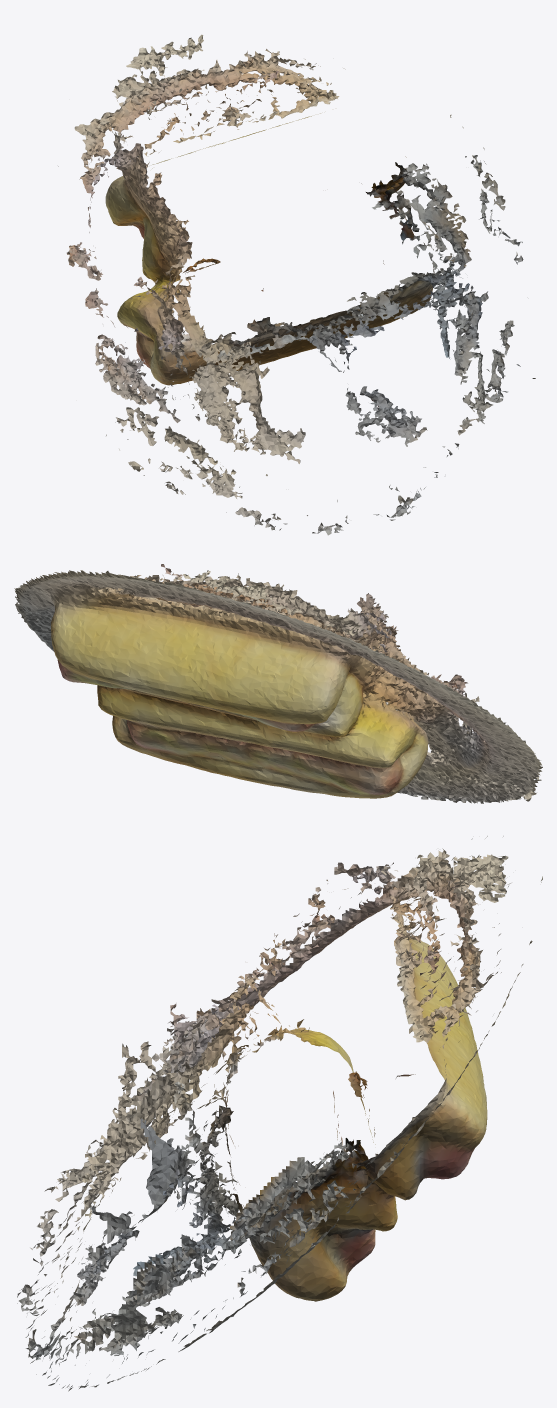
3 renders of one model, top to bottom at view 1: azimuth 30°, elevation 25°; view 2: azimuth 150°, elevation 25°; view 3: azimuth 270°, elevation 25°, orthographic. The views are drawn at different scales.
Visible parts, largest first — view 1: geometry_0; view 2: geometry_0; view 3: geometry_0.
Part boxes in pixels (x1,y1,x2,y2): geometry_0: [58, 34, 535, 535]; geometry_0: [14, 564, 542, 803]; geometry_0: [17, 836, 542, 1391].
Bounding box in the file's own units: 2.36 × 1.65 × 1.71.
